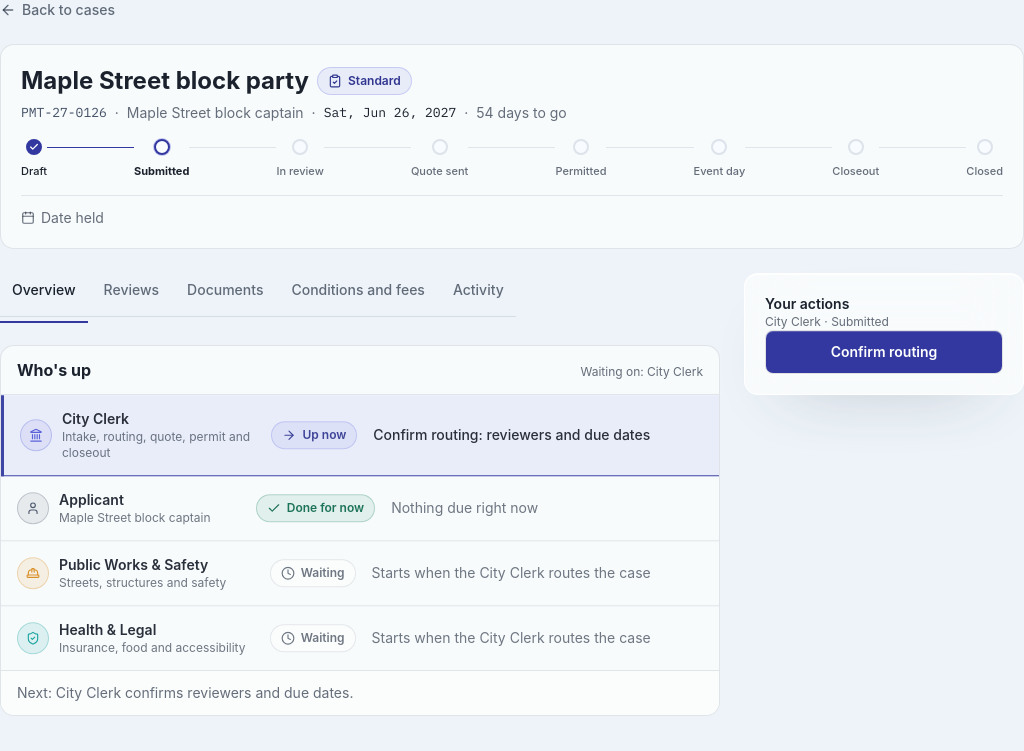
Test case: 4A: Confirm routing (confirm_routing) › refuses to drop Health & Legal while the plan carries an insurance card
The image size is (1024, 751).
Click the button "Confirm routing" at (884, 352), box [765,330,1003,374]
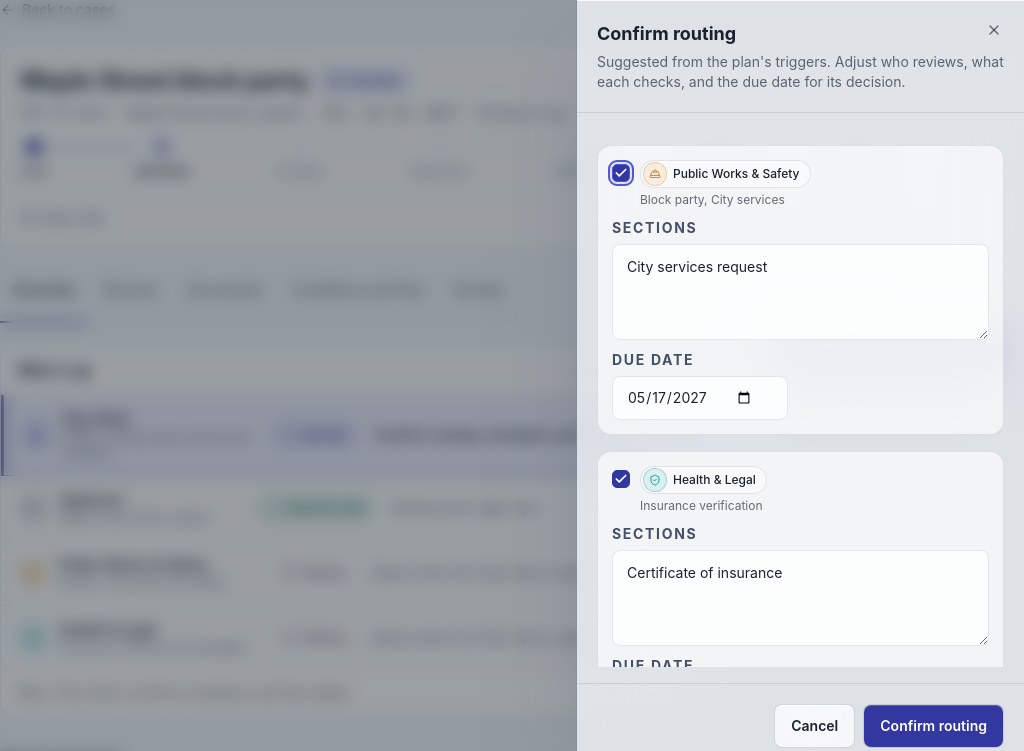
Click the checkbox named "Route to Health & Legal" at (621, 479), box [612,470,630,488]
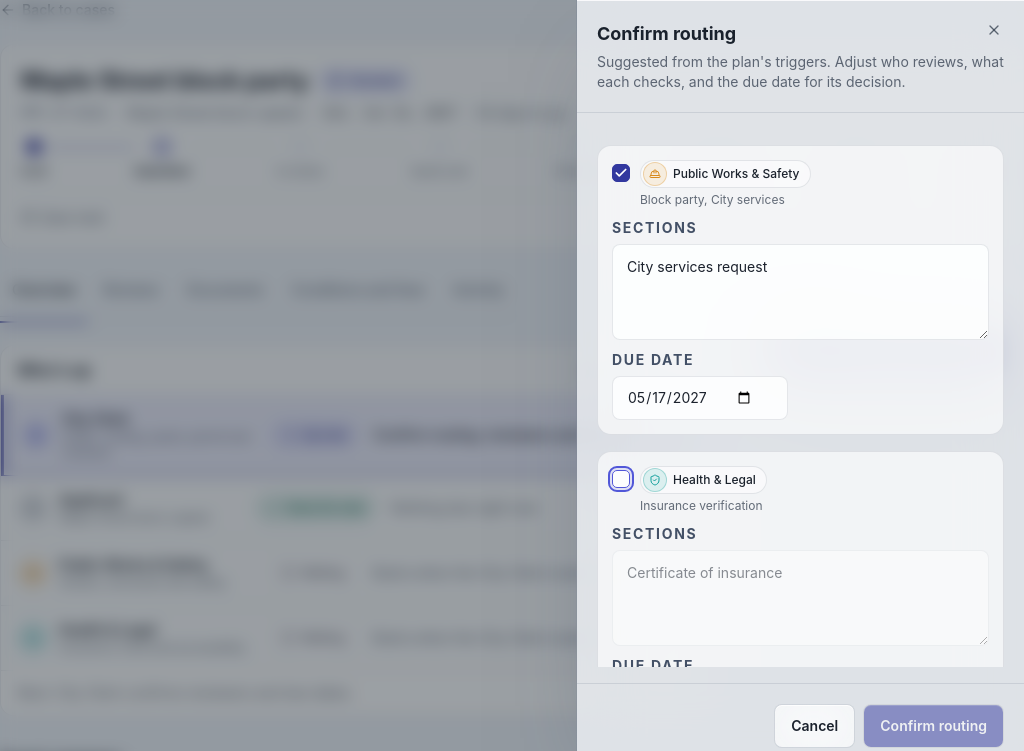
Expected: the button "Confirm routing" is disabled, [863,704,1004,748]
